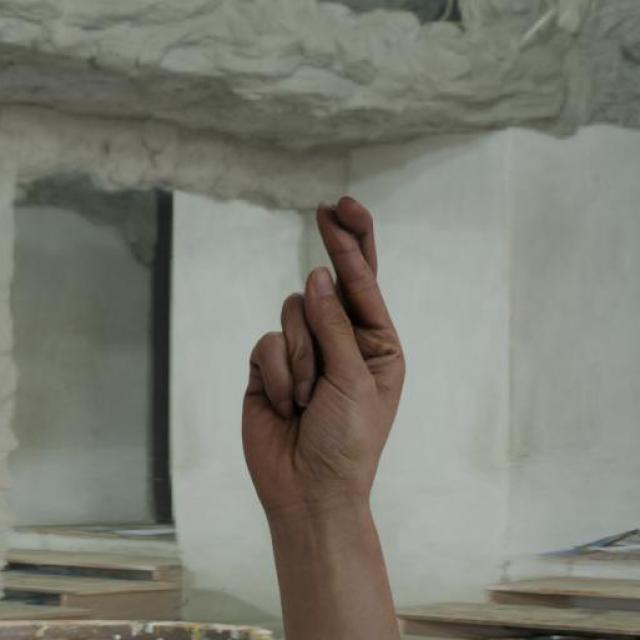R: (239, 193, 413, 516)
